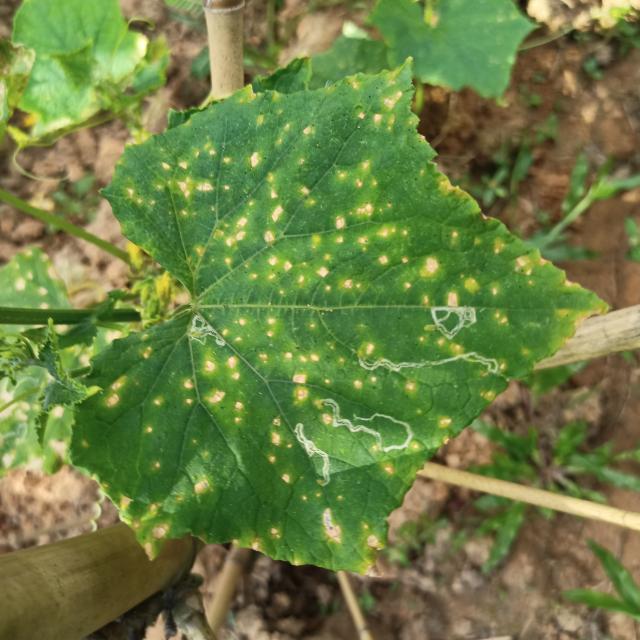disease_cucumber: (126, 87, 566, 305), (128, 346, 248, 457), (223, 312, 318, 406), (118, 470, 213, 561), (300, 490, 383, 554), (265, 414, 295, 499), (340, 373, 426, 396), (225, 524, 282, 552), (104, 370, 126, 416), (414, 334, 461, 355)
